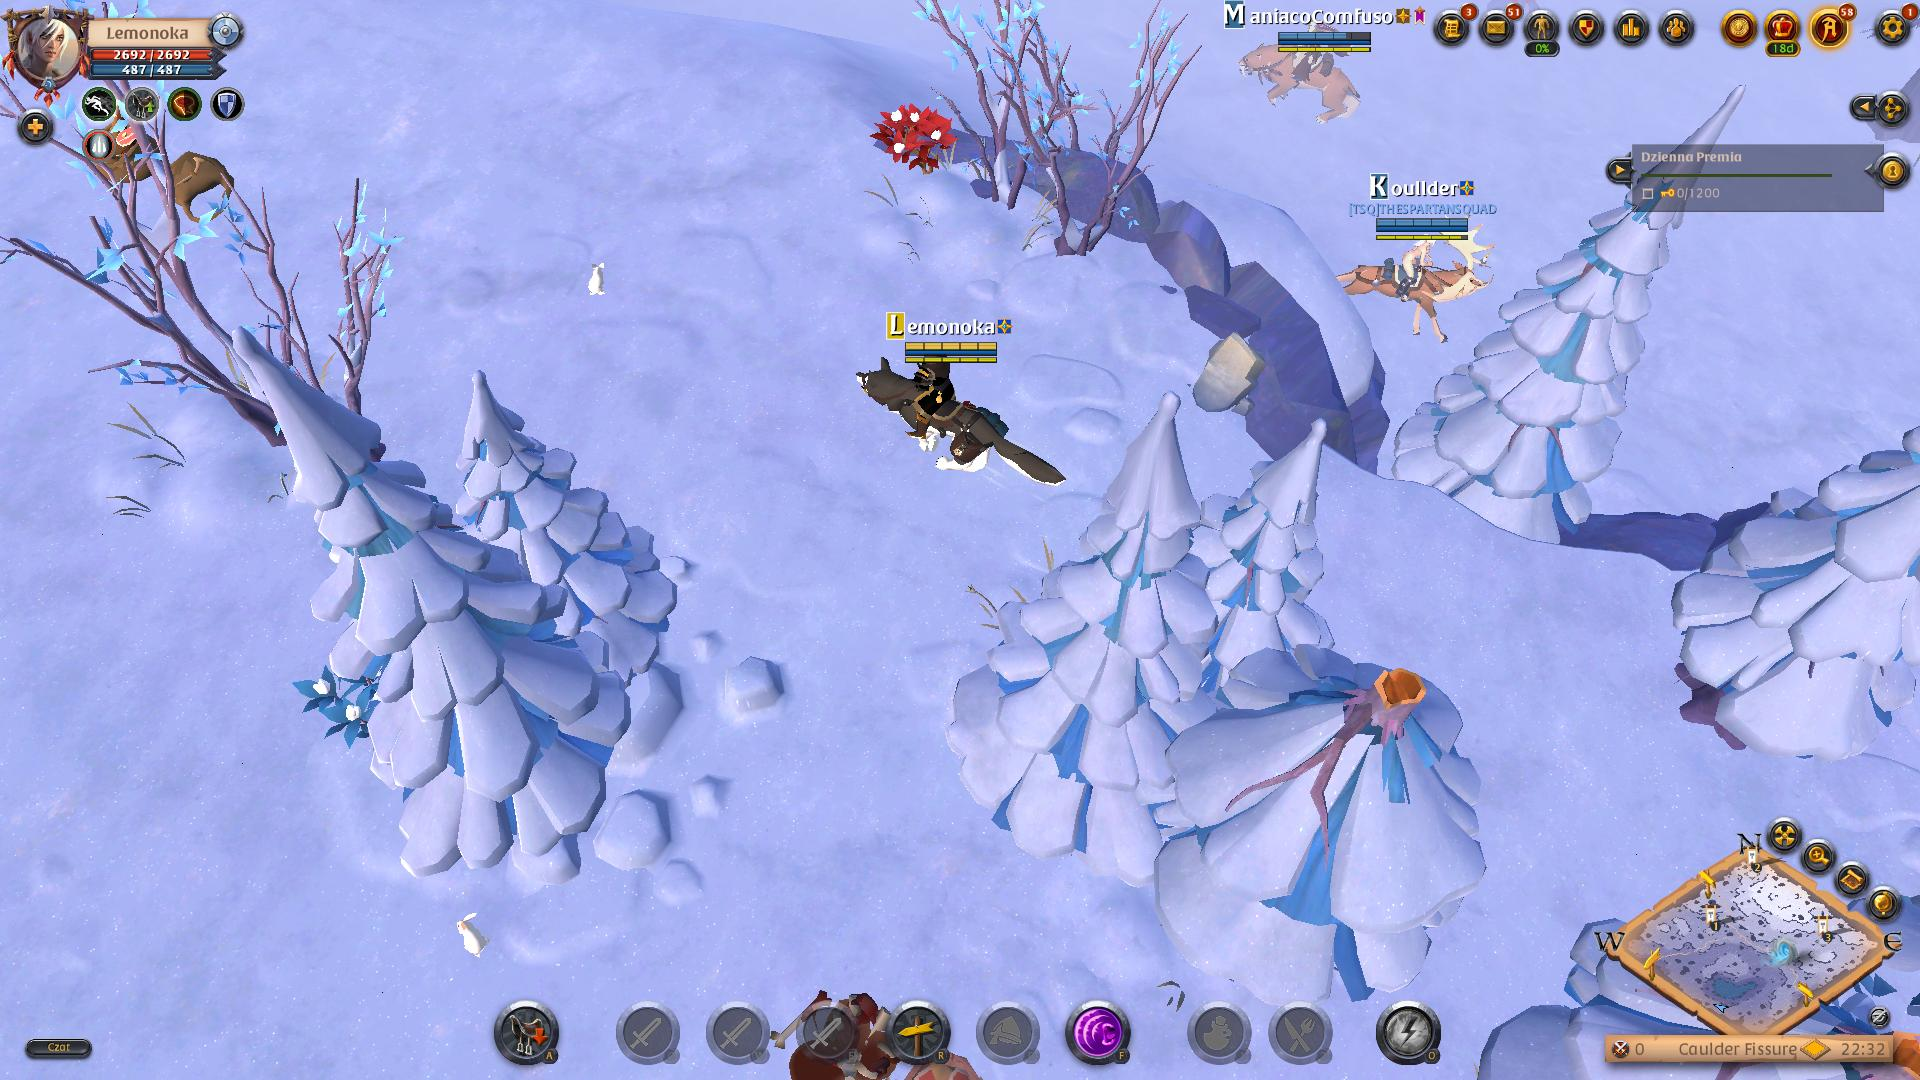fiber tier 5: (872, 100, 959, 185)
rock tier 1: (1189, 332, 1267, 422)
